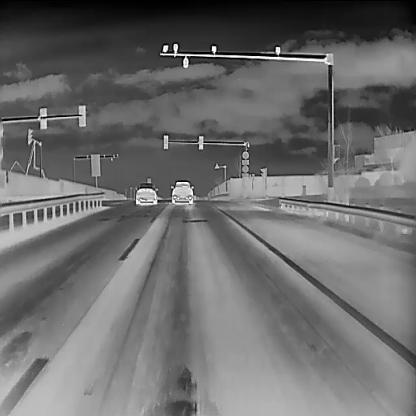car: (135, 181, 158, 205), (170, 180, 194, 203)
